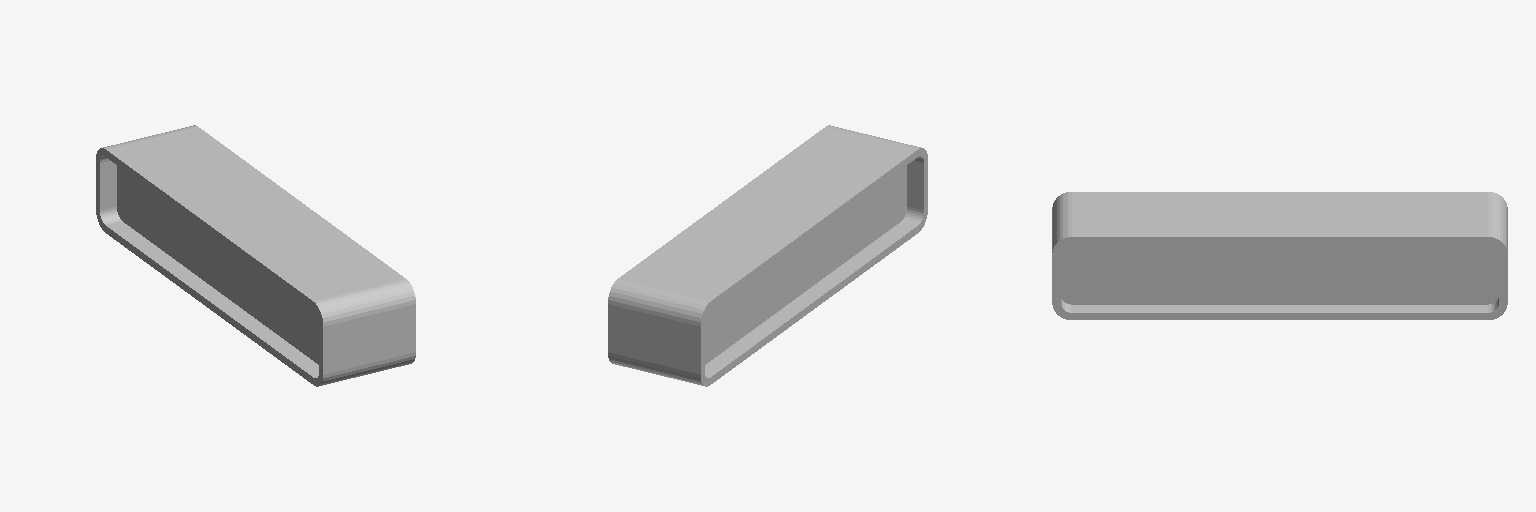
File: bench.obj
The picture shows the model from 3 angles: view 1: azimuth 30°, elevation 25°; view 2: azimuth 150°, elevation 25°; view 3: azimuth 270°, elevation 25°; orthographic projection.
Visible parts, largest first — view 1: VR_Gallery.001; view 2: VR_Gallery.001; view 3: VR_Gallery.001.
Part boxes in pixels (left/top/right/bottom): VR_Gallery.001: left=96, top=125, right=415, bottom=386; VR_Gallery.001: left=608, top=125, right=927, bottom=386; VR_Gallery.001: left=1052, top=192, right=1507, bottom=319.
Size of the model in its own units: 0.5221 by 0.4498 by 2.22.